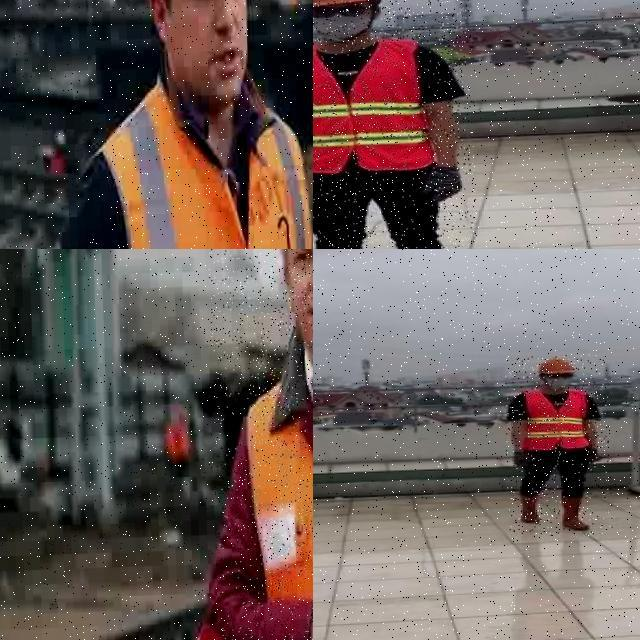boots: (559, 493, 594, 532), (514, 492, 544, 524)
helmet: (534, 356, 577, 376)
vest: (74, 58, 313, 249), (243, 350, 313, 640), (313, 40, 431, 174), (524, 389, 592, 451)
